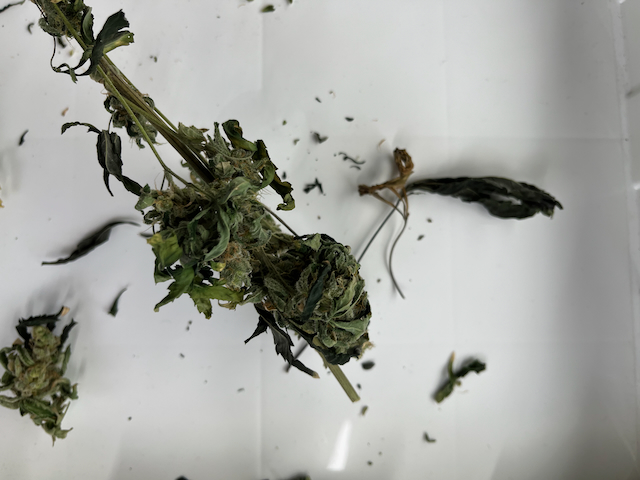Bud: (278, 240, 368, 354), (16, 325, 63, 406), (217, 144, 266, 189)
Leaf: (408, 172, 564, 233), (89, 124, 146, 201), (152, 261, 197, 315), (92, 10, 133, 63), (265, 154, 297, 215), (210, 205, 232, 266), (246, 310, 272, 353), (188, 283, 245, 299), (56, 60, 78, 87)
Leaf-Attachment: (318, 308, 342, 329), (400, 184, 411, 201), (45, 60, 57, 72), (103, 124, 113, 134)
Stem: (98, 66, 142, 126), (325, 361, 371, 416), (357, 202, 389, 266), (141, 129, 171, 180), (262, 204, 306, 237), (149, 98, 184, 131)
